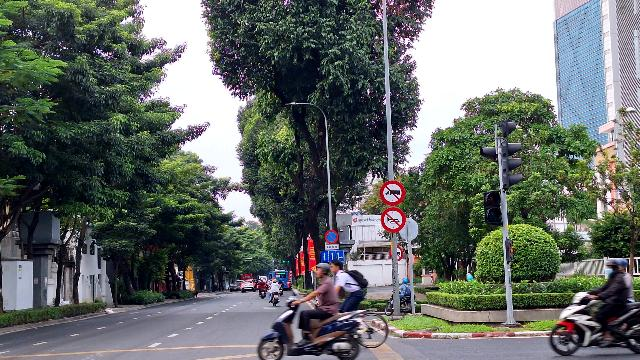cam-bop-coi: (381, 207, 406, 232)
cam-do-xe: (325, 230, 339, 244)
